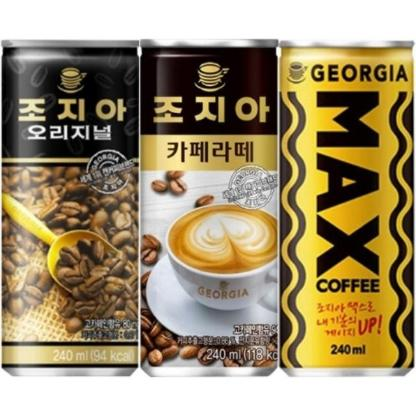Can: (3, 34, 142, 380)
